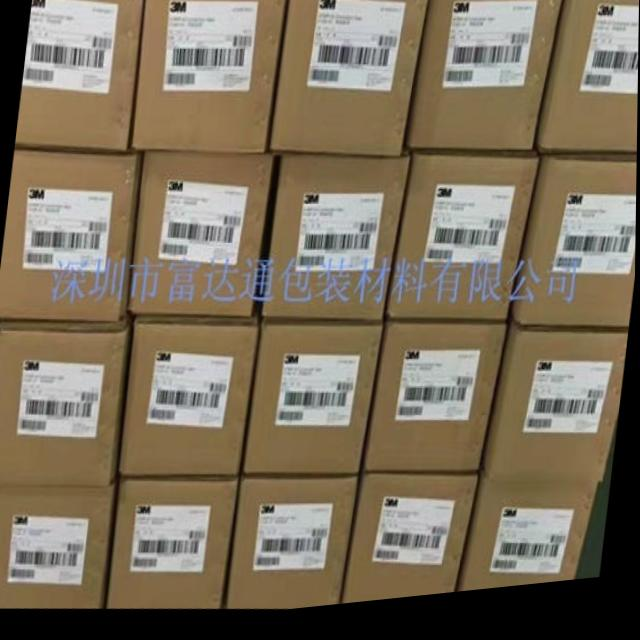box: (387, 158, 541, 331), (271, 0, 431, 166), (406, 0, 566, 159), (262, 164, 410, 330), (131, 0, 286, 158), (483, 329, 629, 495), (128, 154, 273, 321), (0, 152, 138, 325), (0, 322, 134, 487), (120, 319, 258, 479), (364, 330, 509, 482), (244, 323, 383, 481), (512, 166, 637, 340), (15, 0, 143, 153), (343, 482, 480, 611), (457, 478, 599, 602), (227, 484, 361, 615), (109, 482, 239, 614), (539, 0, 639, 170), (0, 485, 119, 611)
